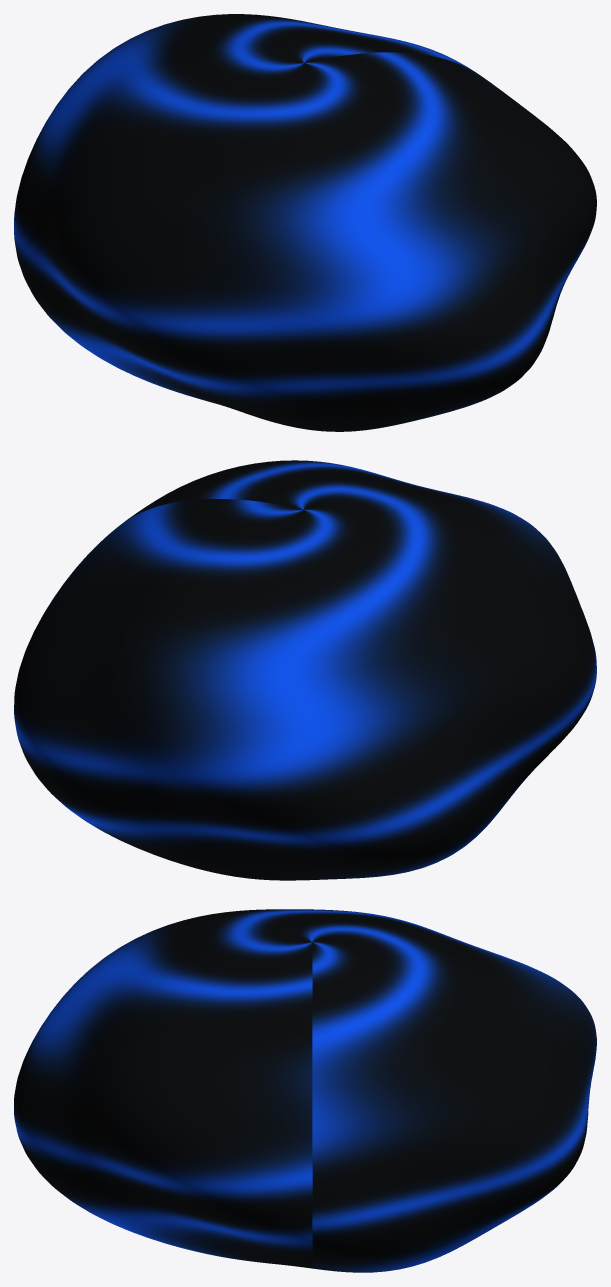
Rendered from labradorite.glb.
3 views of the same model, one above another, from view 1: azimuth 30°, elevation 25°; view 2: azimuth 150°, elevation 25°; view 3: azimuth 270°, elevation 25° (orthographic). The views are drawn at different scales.
Parts seen in each view (by area): view 1: labradorite.001; view 2: labradorite.001; view 3: labradorite.001.
Boxes of the visible parts, <box> form: labradorite.001: <box>14,14,596,431</box>; labradorite.001: <box>14,460,596,880</box>; labradorite.001: <box>14,909,596,1272</box>.
Bounding box in the file's own units: 2.18 × 1.39 × 2.5.
1 material, 1 textured.
